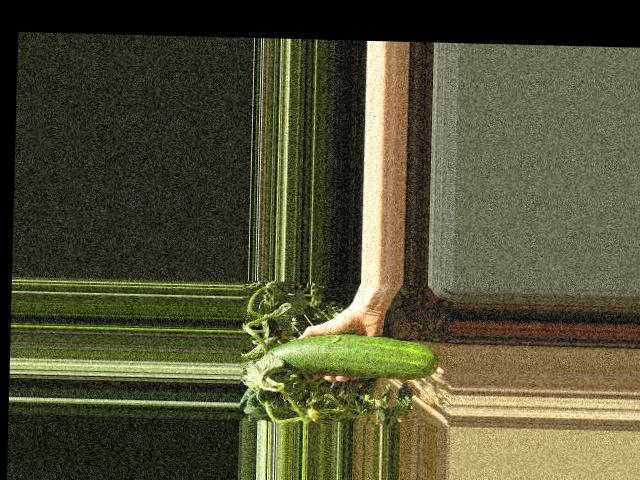cucumber: (264, 332, 440, 380)
